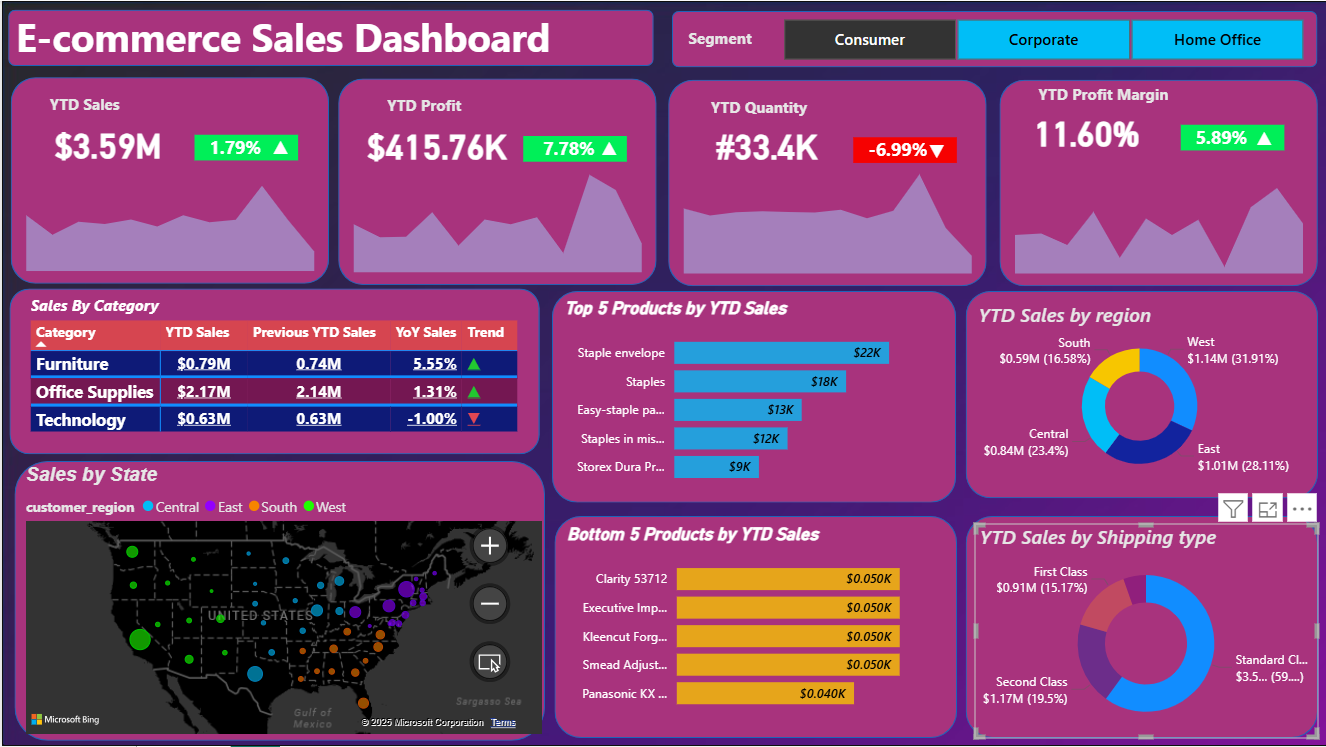

The dashboard page shown, as its layout file describes it:
{"tool":"powerbi","page":{"name":"Page 1","canvas":[1280,720],"ordinal":0},"visuals":[{"type":"shape","box":[5.7,8.6,622.9,54.3],"z":0},{"type":"textbox","box":[7.9,4.6,556.4,69.2],"z":1000},{"type":"shape","box":[7.9,73.8,307.3,199.3],"z":2000},{"type":"card","fields":{"Values":["ecommerce_data.YTD Sales"]},"box":[25.9,100.9,154.3,72.9],"z":3000},{"type":"areaChart","fields":{"Category":["Calender.Month"],"Y":["Sum(ecommerce_data.sales_per_order)","select"]},"box":[8,151.3,308.3,115],"z":4000},{"type":"shape","box":[186.3,129.7,100,25],"z":5000},{"type":"card","fields":{"Values":["ecommerce_data.YoY Sales"]},"box":[176.3,126.3,98.3,33.3],"z":6000},{"type":"card","fields":{"Values":["ecommerce_data.Sales Icon"]},"box":[249.7,126.3,38.3,33.3],"z":7000},{"type":"textbox","box":[41.3,84.7,93.3,36.7],"z":8000},{"type":"shape","box":[325,75,307.3,199.3],"z":9000},{"type":"card","fields":{"Values":["ecommerce_data.YTD Profit"]},"box":[342.9,102,154.3,72.9],"z":10000},{"type":"areaChart","fields":{"Category":["Calender.Month"],"Y":["select","Sum(ecommerce_data.profit_per_order)"]},"box":[325.1,152.5,308.3,115],"z":11000},{"type":"shape","box":[503.4,130.9,100,25],"z":12000},{"type":"card","fields":{"Values":["ecommerce_data.YoY Profit"]},"box":[498.1,127.9,98.3,33.3],"z":13000},{"type":"card","fields":{"Values":["ecommerce_data.Profit Icon"]},"box":[566.8,127.5,38.3,33.3],"z":14000},{"type":"textbox","box":[366.4,86.2,93.3,36.7],"z":15000},{"type":"shape","box":[643,76,307.3,199.3],"z":16000},{"type":"card","fields":{"Values":["ecommerce_data.YTD Concat Qty"]},"box":[660.9,103,154.3,72.9],"z":17000},{"type":"areaChart","fields":{"Category":["Calender.Month"],"Y":["select","Sum(ecommerce_data.order_quantity)"]},"box":[643.1,153.5,308.3,115],"z":18000},{"type":"shape","box":[821.4,131.9,100,25],"z":19000},{"type":"card","fields":{"Values":["ecommerce_data.YoY Qty"]},"box":[815.8,128.4,98.6,34.3],"z":20000},{"type":"card","fields":{"Values":["ecommerce_data.Qty Icon"]},"box":[882.9,129.8,38.6,32.9],"z":21000},{"type":"textbox","box":[678.7,86.9,130,37.1],"z":22000},{"type":"shape","box":[963,76,307.3,199.3],"z":23000},{"type":"card","fields":{"Values":["ecommerce_data.YTD Profit Margin"]},"box":[970,89,154,73],"z":24000},{"type":"areaChart","fields":{"Category":["Calender.Month"],"Y":["select","ecommerce_data.Profit Margin"]},"box":[963.1,153.5,308.3,115],"z":25000},{"type":"shape","box":[1137.4,119.9,100,25],"z":26000},{"type":"card","fields":{"Values":["ecommerce_data.YoY Profit Margin"]},"box":[1127.5,116,98.2,35.5],"z":27000},{"type":"card","fields":{"Values":["ecommerce_data.PM Icon"]},"box":[1198.9,117.8,38.6,32.9],"z":28000},{"type":"textbox","box":[995,75,162,37],"z":29000},{"type":"shape","box":[7.7,278,511.7,160],"z":30000},{"type":"pivotTable","title":"Sales By Category","fields":{"Values":["ecommerce_data.YTD Sales","ecommerce_data.Previous YTD Sales","ecommerce_data.YoY Sales","ecommerce_data.Sales Icon"],"Rows":["ecommerce_data.category_name"]},"box":[22.7,284,480,153.3],"z":31000},{"type":"shape","box":[12,444,512,270],"z":32000},{"type":"map","title":"   Sales by State","fields":{"X":["us_state_long_lat_codes.longitude"],"Y":["us_state_long_lat_codes.latitude"],"Size":["ecommerce_data.YTD Sales"],"Series":["ecommerce_data.customer_region"]},"box":[17.5,446.2,507.5,266.2],"z":33000},{"type":"shape","box":[531.4,280,390,204.3],"z":34000},{"type":"shape","box":[532.9,497.1,388.6,214.3],"z":35000},{"type":"barChart","title":"Top 5 Products by YTD Sales","fields":{"Category":["ecommerce_data.product_name"],"Y":["ecommerce_data.YTD Sales"]},"box":[538.6,285.7,375.7,191.4],"z":36000},{"type":"barChart","title":"Bottom 5 Products by YTD Sales","fields":{"Category":["ecommerce_data.product_name"],"Y":["ecommerce_data.YTD Sales"]},"box":[540,504.3,375.7,191.4],"z":37000},{"type":"shape","box":[930,280,340,200],"z":38000},{"type":"shape","box":[930,497.1,340,214.3],"z":39000},{"type":"donutChart","title":"YTD Sales by region","fields":{"Category":["ecommerce_data.customer_region"],"Y":["ecommerce_data.YTD Sales"]},"box":[937.1,290,321.4,178.6],"z":40000},{"type":"donutChart","title":"YTD Sales by Shipping type","fields":{"Category":["ecommerce_data.shipping_type"],"Y":["ecommerce_data.YTD Sales"]},"box":[938.6,504.3,331.4,207.1],"z":41000},{"type":"shape","box":[647.1,10,622.9,54.3],"z":42000},{"type":"slicer","fields":{"Values":["ecommerce_data.customer_segment"]},"box":[728.6,11.4,551.4,52.9],"z":43000},{"type":"textbox","box":[657.1,20,87.1,37.1],"z":44000}]}

Visuals, with their boxes in screenshot pixels (x1, y1, x2, y2), scaled from the page's 1280x720 canvas onto the 1326x747 screenshot:
shape: box=[6, 9, 651, 65]
textbox: box=[8, 5, 585, 77]
shape: box=[8, 77, 327, 283]
card - ecommerce_data.YTD Sales: box=[27, 105, 187, 180]
areaChart - Calender.Month x Sum(ecommerce_data.sales_per_order): box=[8, 157, 328, 276]
shape: box=[193, 135, 297, 161]
card - ecommerce_data.YoY Sales: box=[183, 131, 284, 166]
card - ecommerce_data.Sales Icon: box=[259, 131, 298, 166]
textbox: box=[43, 88, 139, 126]
shape: box=[337, 78, 655, 285]
card - ecommerce_data.YTD Profit: box=[355, 106, 515, 181]
areaChart - Calender.Month x select: box=[337, 158, 656, 278]
shape: box=[521, 136, 625, 162]
card - ecommerce_data.YoY Profit: box=[516, 133, 618, 167]
card - ecommerce_data.Profit Icon: box=[587, 132, 627, 167]
textbox: box=[380, 89, 476, 128]
shape: box=[666, 79, 984, 286]
card - ecommerce_data.YTD Concat Qty: box=[685, 107, 844, 182]
areaChart - Calender.Month x select: box=[666, 159, 986, 279]
shape: box=[851, 137, 955, 163]
card - ecommerce_data.YoY Qty: box=[845, 133, 947, 169]
card - ecommerce_data.Qty Icon: box=[915, 135, 955, 169]
textbox: box=[703, 90, 838, 129]
shape: box=[998, 79, 1316, 286]
card - ecommerce_data.YTD Profit Margin: box=[1005, 92, 1164, 168]
areaChart - Calender.Month x select: box=[998, 159, 1317, 279]
shape: box=[1178, 124, 1282, 150]
card - ecommerce_data.YoY Profit Margin: box=[1168, 120, 1270, 157]
card - ecommerce_data.PM Icon: box=[1242, 122, 1282, 156]
textbox: box=[1031, 78, 1199, 116]
shape: box=[8, 288, 538, 454]
"Sales By Category" pivotTable: box=[24, 295, 521, 454]
shape: box=[12, 461, 543, 741]
"   Sales by State" map: box=[18, 463, 544, 739]
shape: box=[550, 290, 955, 502]
shape: box=[552, 516, 955, 738]
"Top 5 Products by YTD Sales" barChart: box=[558, 296, 947, 495]
"Bottom 5 Products by YTD Sales" barChart: box=[559, 523, 949, 722]
shape: box=[963, 290, 1316, 498]
shape: box=[963, 516, 1316, 738]
"YTD Sales by region" donutChart: box=[971, 301, 1304, 486]
"YTD Sales by Shipping type" donutChart: box=[972, 523, 1316, 738]
shape: box=[670, 10, 1316, 67]
slicer - ecommerce_data.customer_segment: box=[755, 12, 1325, 67]
textbox: box=[681, 21, 771, 59]
